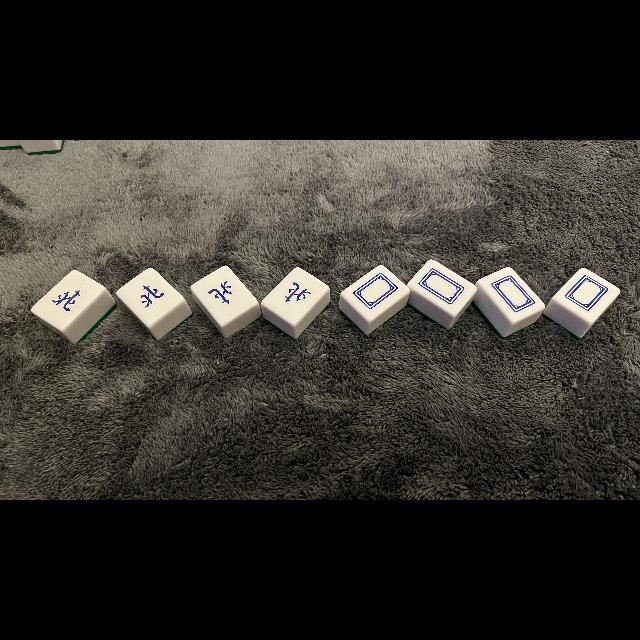dw: (488, 269, 538, 315), (414, 266, 470, 306), (349, 270, 398, 310), (562, 272, 610, 312)
wn: (44, 280, 92, 324), (202, 272, 244, 320), (130, 276, 174, 318), (274, 274, 318, 316)
